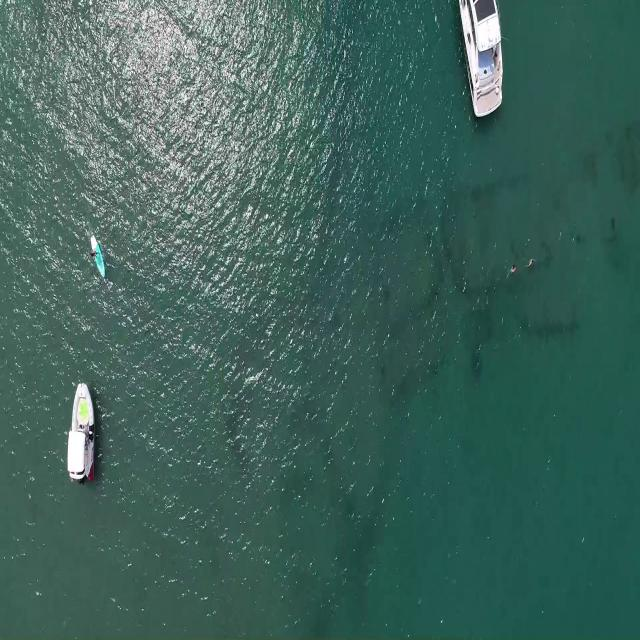boat: (457, 0, 506, 118), (65, 372, 97, 491)
person: (525, 257, 539, 271), (88, 246, 99, 261), (510, 264, 518, 274)
surfboard: (89, 231, 105, 281)
